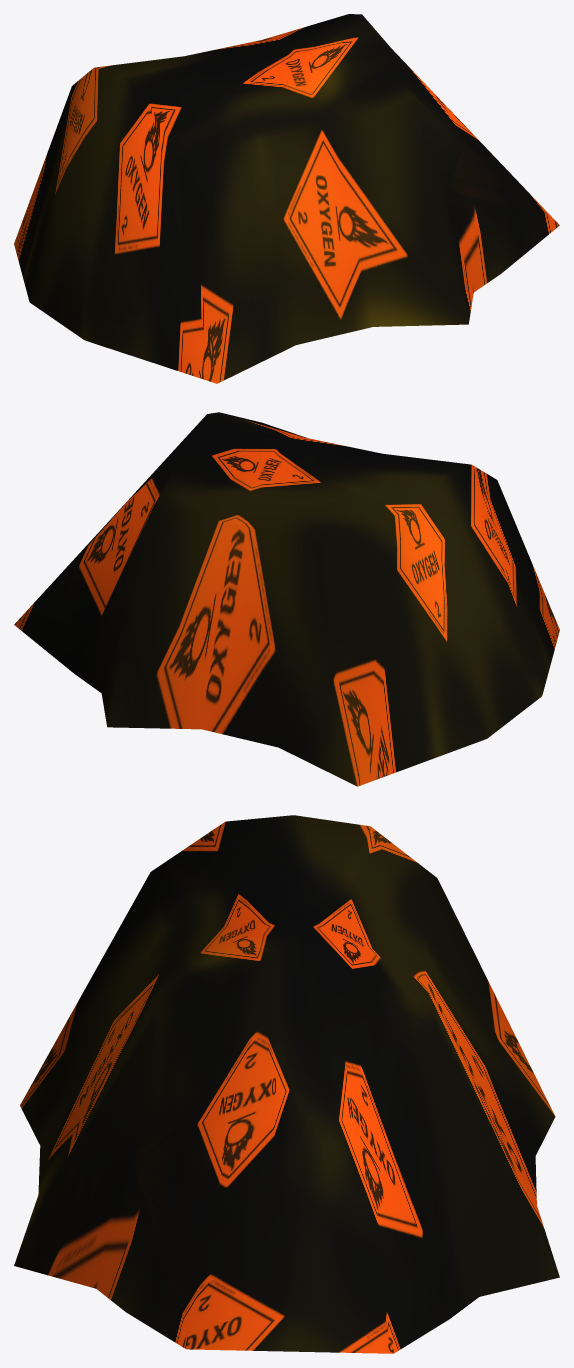
Rendered from tent_o2_yellow.fbx.
The picture shows the model from 3 angles, top to bottom: view 1: azimuth 30°, elevation 25°; view 2: azimuth 150°, elevation 25°; view 3: azimuth 270°, elevation 25°; orthographic projection. The views are drawn at different scales.
Parts seen in each view (by area): view 1: tent4; view 2: tent4; view 3: tent4.
Boxes of the visible parts, x1,y1,x2,y2 form: tent4: (14, 14, 559, 383); tent4: (14, 412, 559, 786); tent4: (14, 815, 559, 1353).
Bounding box in the file's own units: 2212 × 1099 × 1712.
